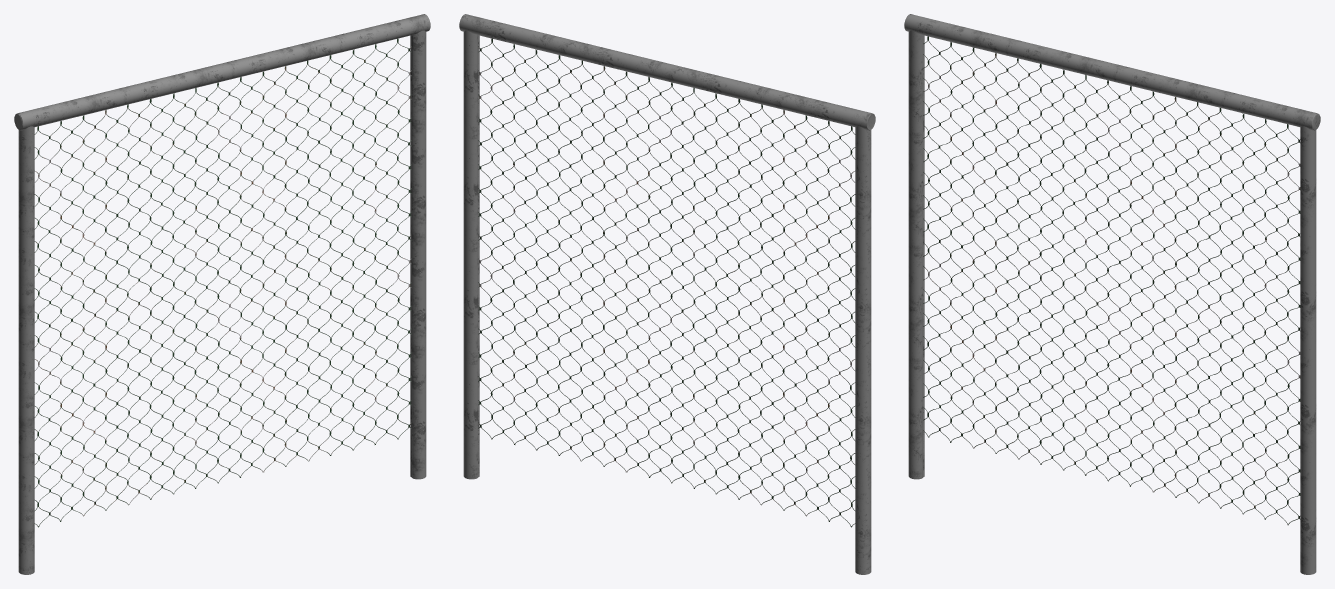
The model's file is PagarKawat.fbx.
The picture shows the model from 3 angles, left to right: view 1: azimuth 30°, elevation 25°; view 2: azimuth 150°, elevation 25°; view 3: azimuth 330°, elevation 25°; orthographic projection.
Parts seen in each view (by area): view 1: PagarKawat.012_PagarKawat_0.028; view 2: PagarKawat.012_PagarKawat_0.028; view 3: PagarKawat.012_PagarKawat_0.028.
Part boxes in pixels (x1,y1,x2,y2): PagarKawat.012_PagarKawat_0.028: (14, 14, 430, 574); PagarKawat.012_PagarKawat_0.028: (459, 14, 875, 574); PagarKawat.012_PagarKawat_0.028: (904, 14, 1320, 574).
Size of the model in its own units: 208 by 224 by 7.85.
1 material, 1 textured.
